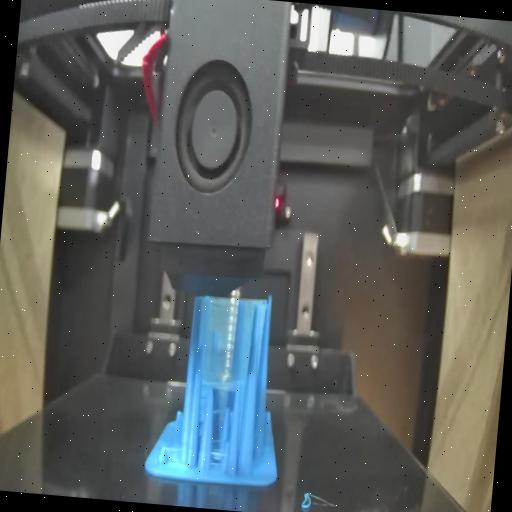stringing: (196, 293, 266, 390), (206, 401, 232, 470)
